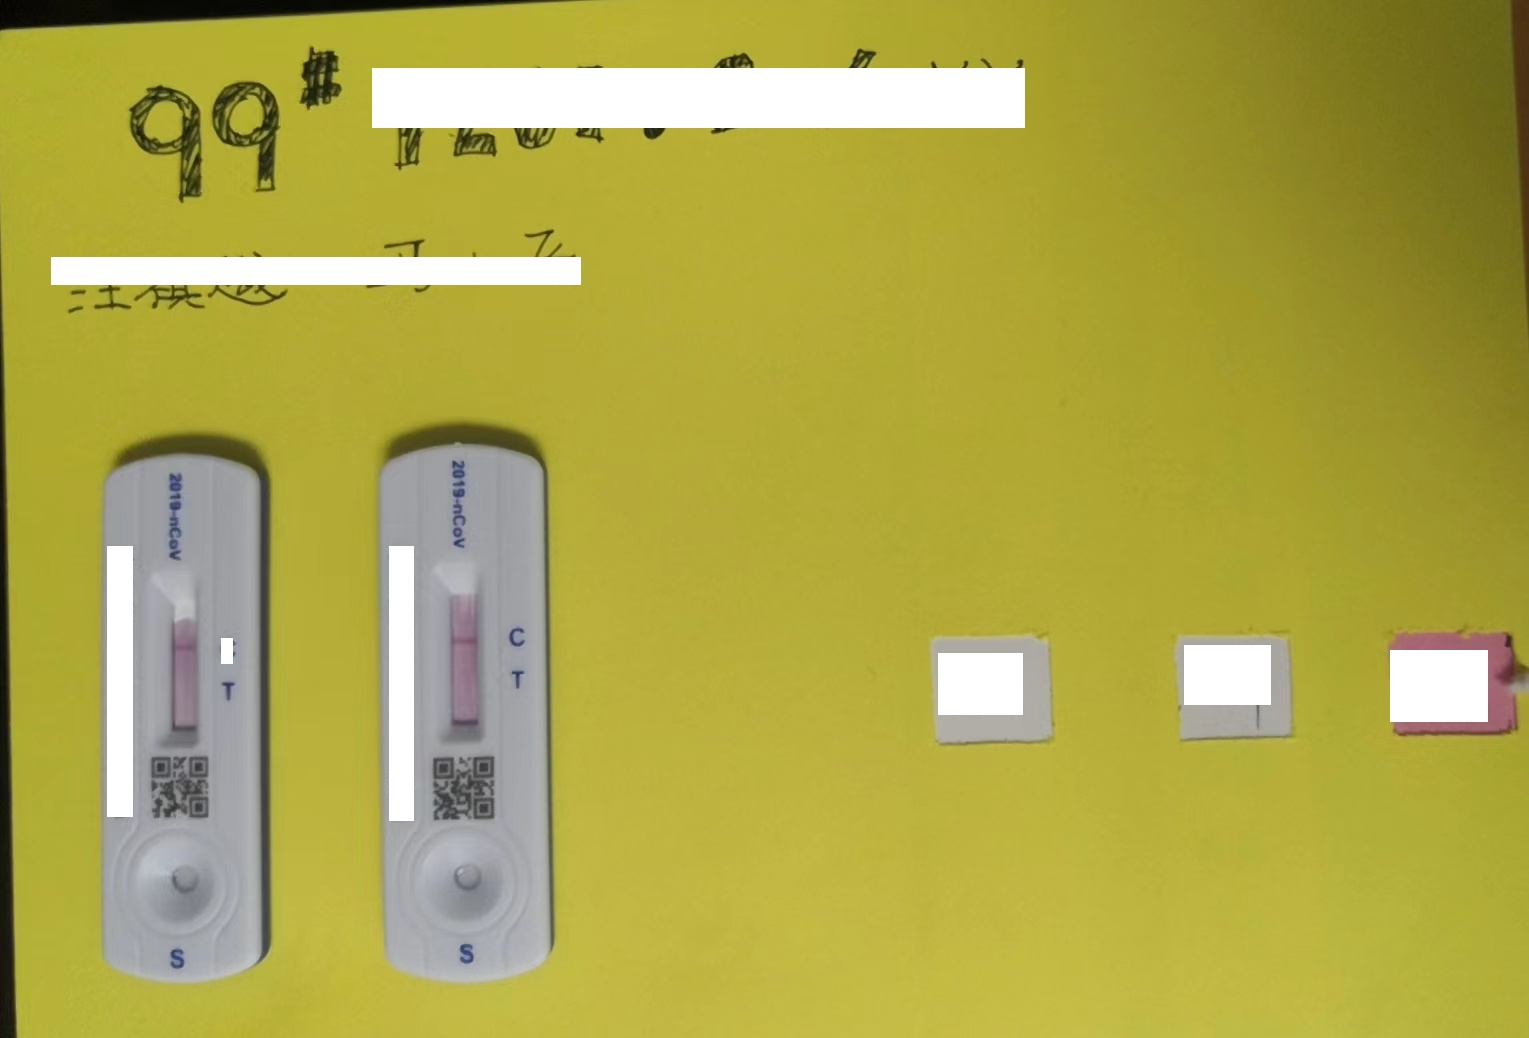negative: (430, 548, 490, 740), (151, 564, 204, 741)
